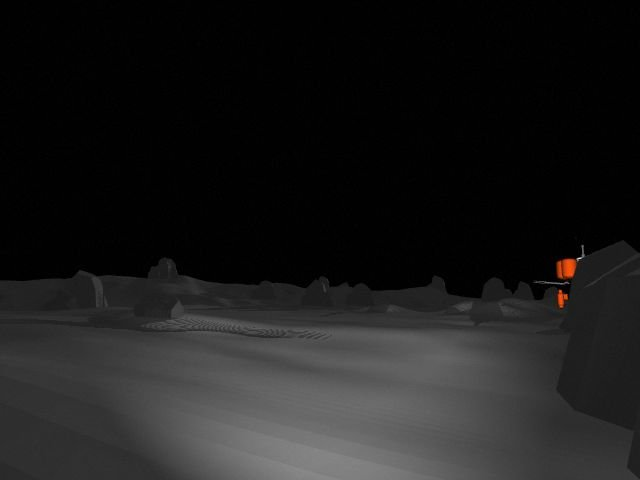homebase: (531, 238, 635, 314)
